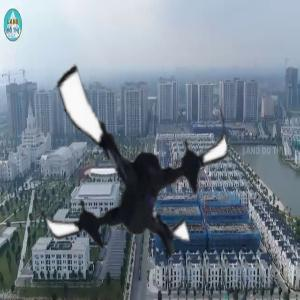drone: (19, 52, 240, 273)
